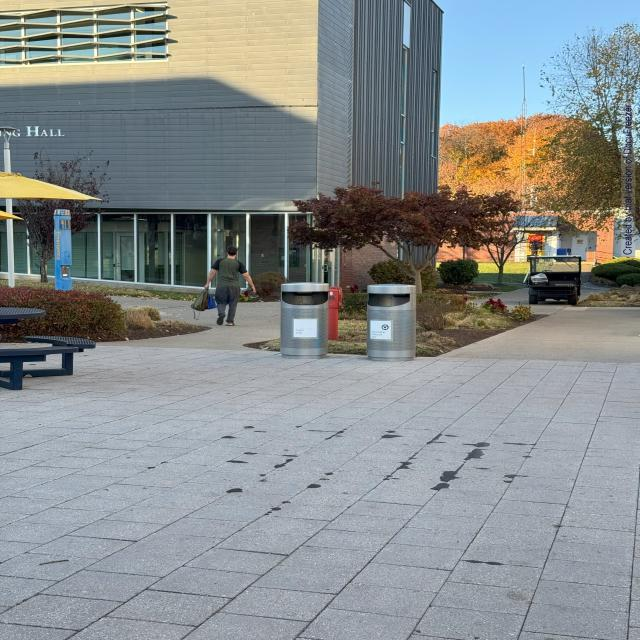Trash bin: (354, 275, 434, 376), (272, 276, 342, 378)
